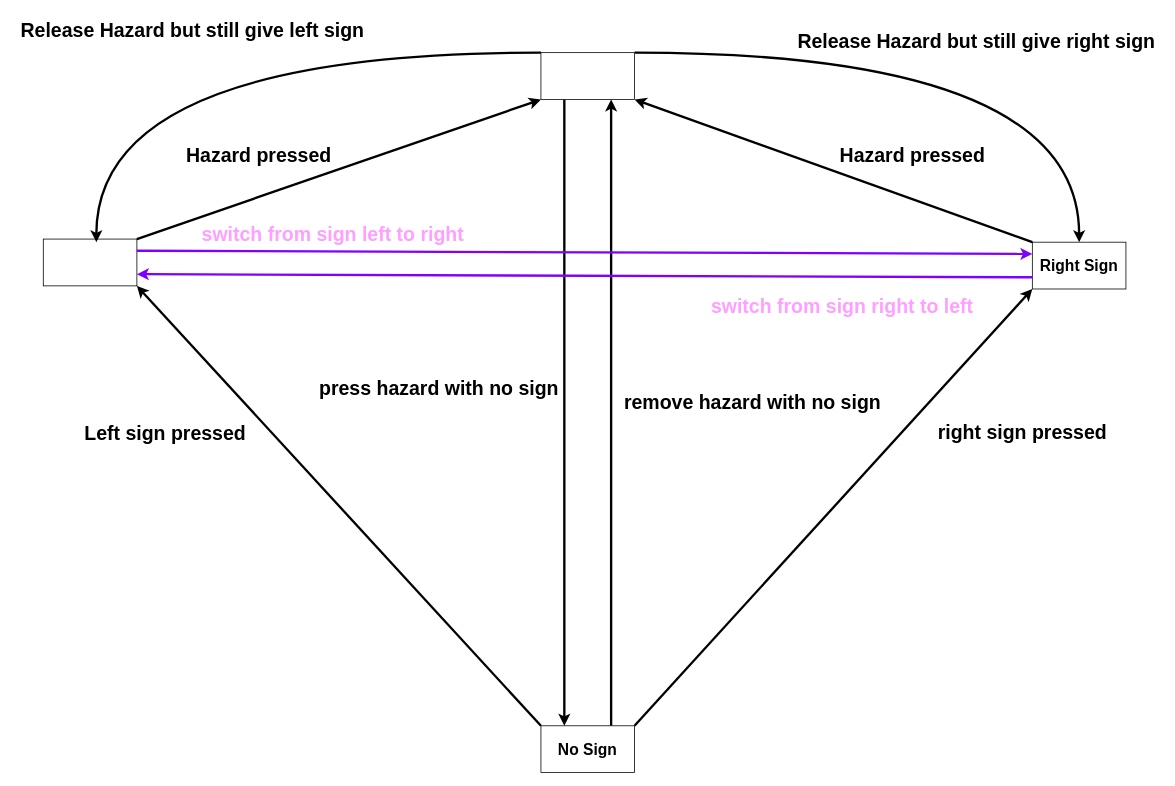
The diagram is 1175 pixels wide and 786 high, and some of its shapes have lost their labels. The box of each missing label's shape, as (x1, y1, x2, y2) in pixels:
Hazard: (540, 52, 635, 99)
Left Sign: (43, 238, 137, 286)
